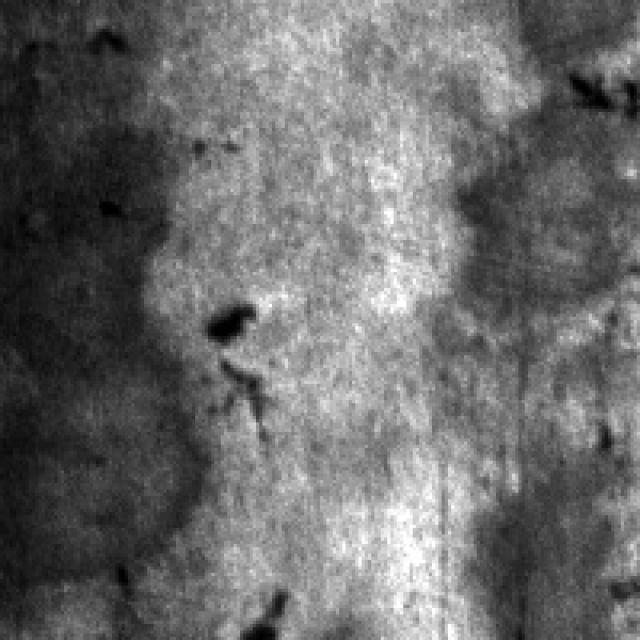inclusion: (208, 288, 285, 394), (563, 57, 640, 121)
patches: (3, 0, 202, 576), (448, 0, 640, 336), (477, 412, 640, 634)
